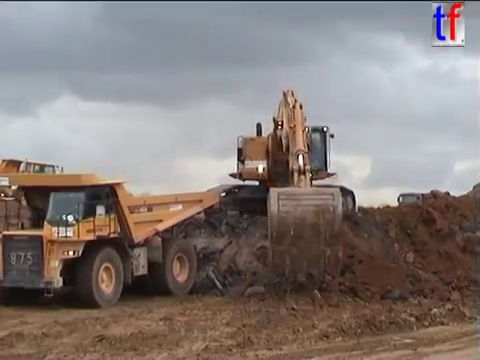excavator: (201, 87, 360, 284)
truck: (1, 171, 222, 311), (1, 155, 66, 209), (394, 190, 480, 227)
